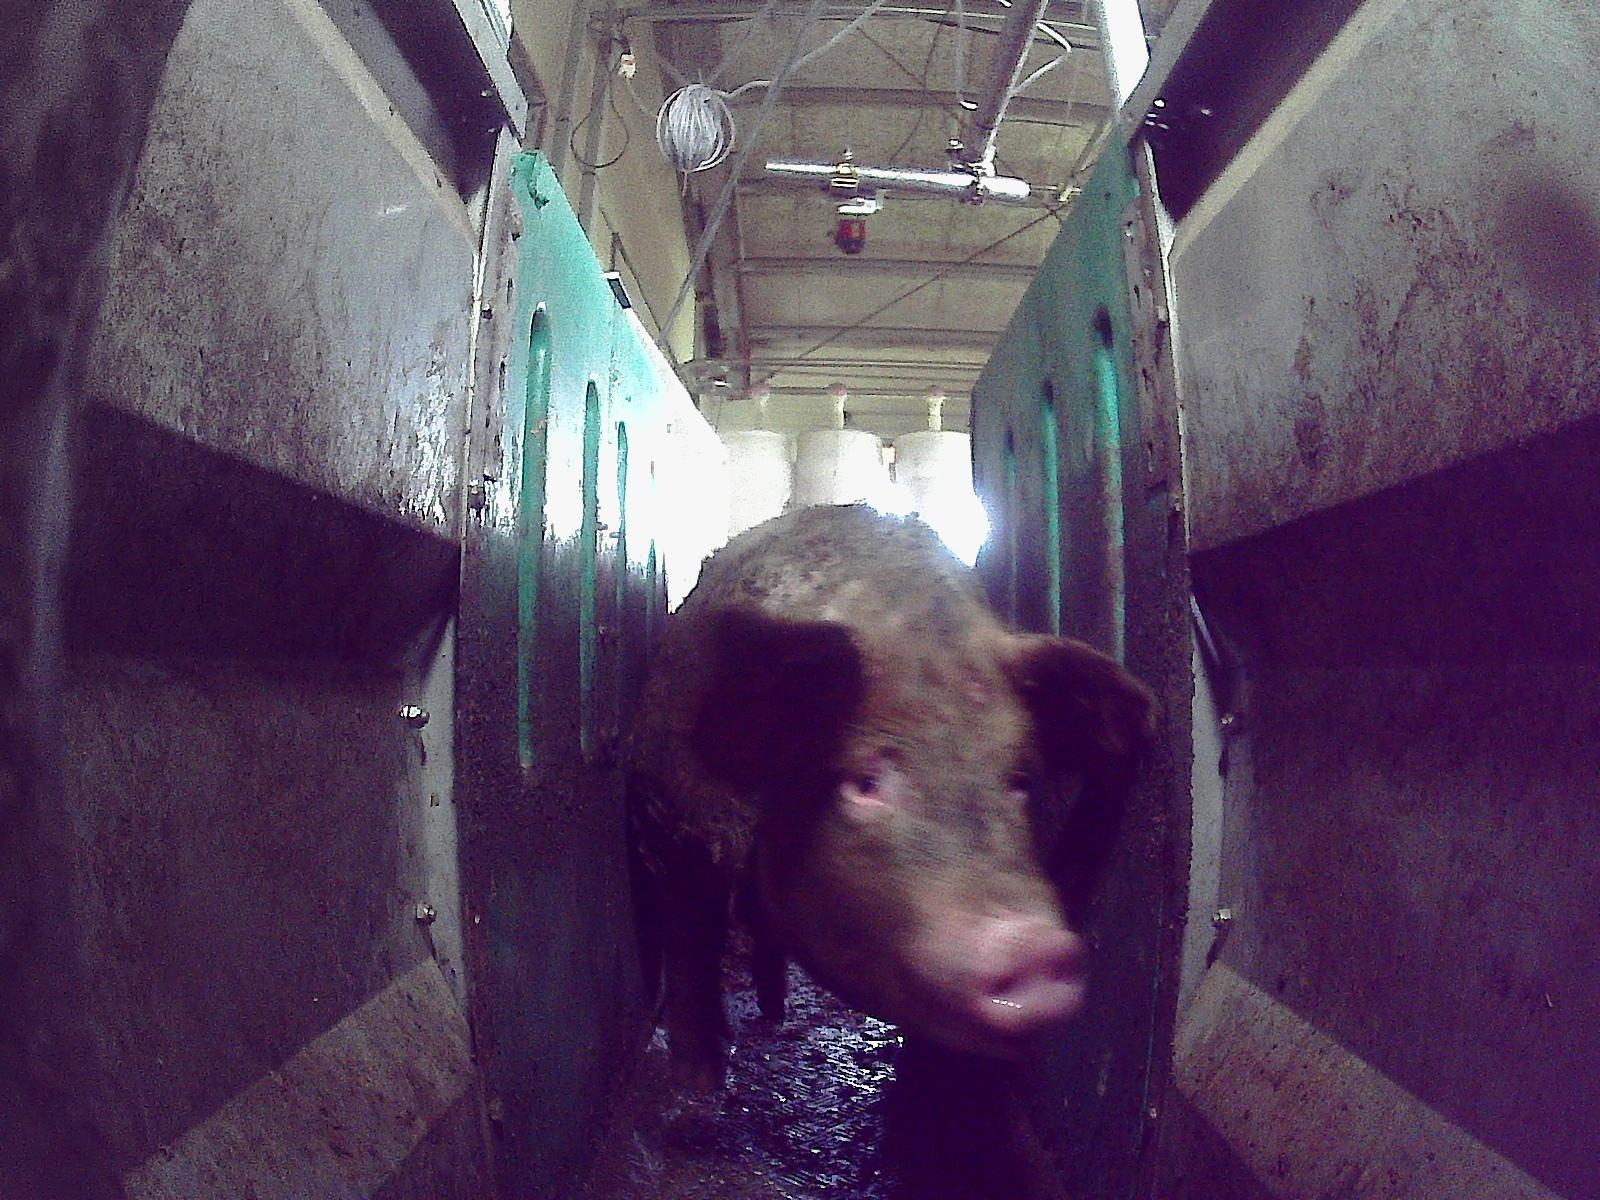Face: (747, 634, 1086, 1067)
